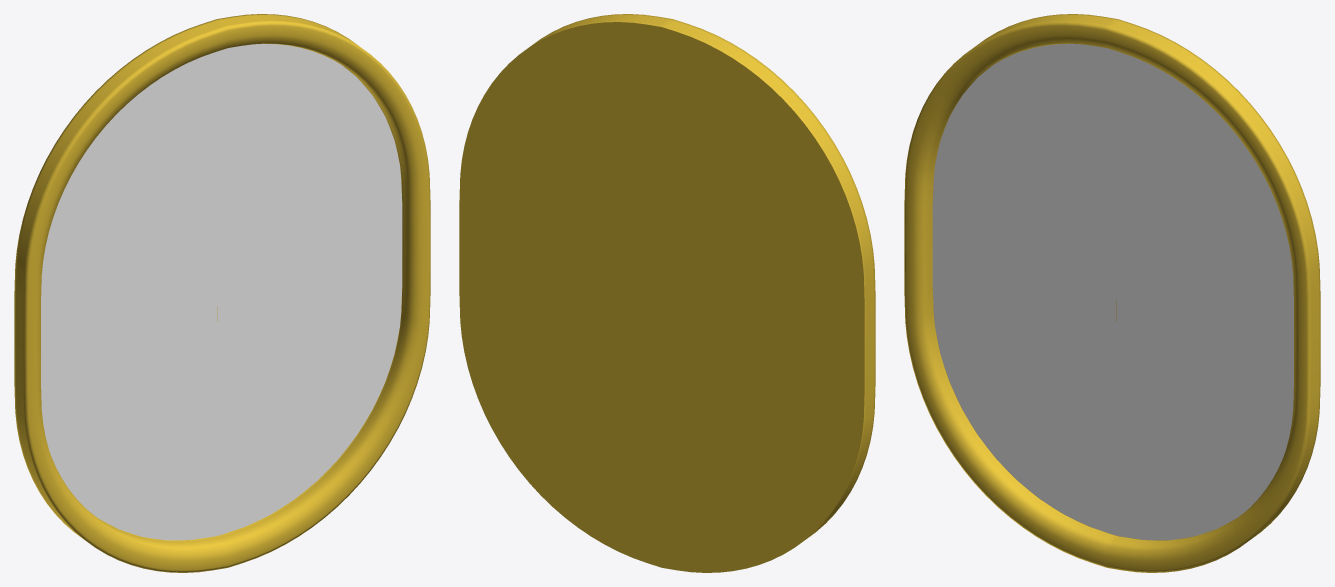
3 views of the same model, side by side, from view 1: azimuth 30°, elevation 25°; view 2: azimuth 150°, elevation 25°; view 3: azimuth 330°, elevation 25° (orthographic).
Parts seen in each view (by area): view 1: ayna_01:pCube3; view 2: ayna_01:pCube3; view 3: ayna_01:pCube3.
Boxes of the visible parts, bbox=[...] form: ayna_01:pCube3: bbox=[14, 14, 430, 572]; ayna_01:pCube3: bbox=[459, 14, 875, 572]; ayna_01:pCube3: bbox=[904, 14, 1320, 572].
Bounding box in the file's own units: 2.85 × 3.64 × 0.1451.
